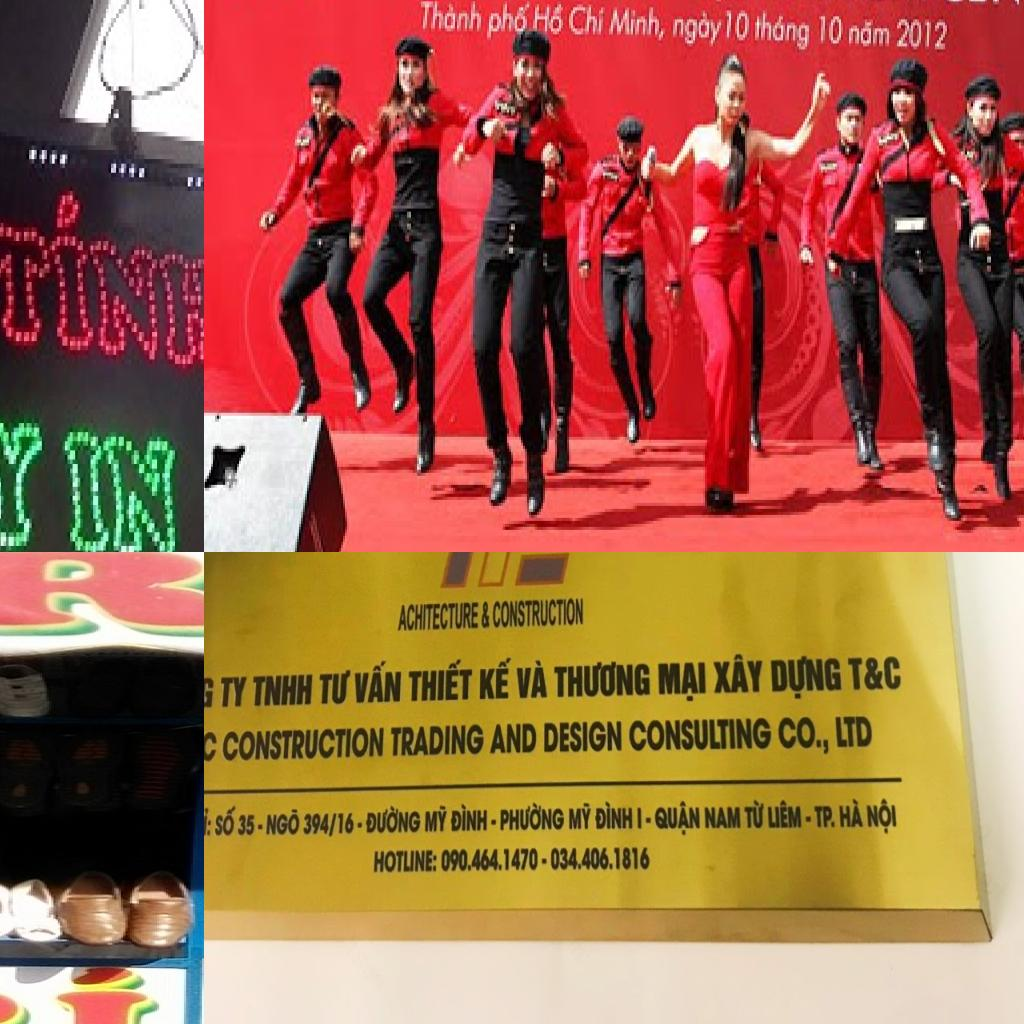text: (0, 159, 204, 386), (52, 400, 187, 552), (222, 727, 387, 763), (628, 717, 774, 752), (555, 659, 653, 699), (770, 652, 844, 703), (388, 724, 486, 758), (492, 596, 585, 630), (406, 658, 474, 704), (440, 844, 539, 874), (753, 10, 813, 56), (544, 720, 624, 754), (607, 4, 669, 46), (710, 652, 766, 698), (398, 601, 479, 632), (351, 658, 404, 704), (846, 653, 904, 693), (658, 660, 710, 704), (500, 800, 566, 834), (415, 2, 485, 34), (250, 674, 314, 708), (776, 716, 831, 755), (487, 0, 535, 43), (671, 14, 725, 50), (364, 804, 423, 836), (653, 800, 702, 838), (373, 848, 439, 875), (478, 656, 514, 702), (489, 724, 539, 756), (302, 811, 356, 840), (516, 657, 550, 701), (845, 20, 893, 50), (567, 4, 609, 38), (317, 668, 353, 707), (866, 795, 900, 836), (835, 716, 876, 749), (594, 798, 634, 831), (815, 14, 849, 52), (450, 802, 489, 834), (533, 2, 565, 40), (767, 798, 803, 830), (266, 808, 302, 838), (836, 796, 866, 830), (704, 807, 743, 832), (742, 795, 768, 832), (725, 10, 751, 46), (219, 676, 248, 708), (424, 802, 450, 836), (214, 804, 238, 838), (567, 801, 593, 830), (811, 803, 838, 830), (237, 812, 257, 838), (204, 731, 220, 763), (481, 600, 493, 630), (204, 805, 213, 839), (635, 807, 644, 832)
